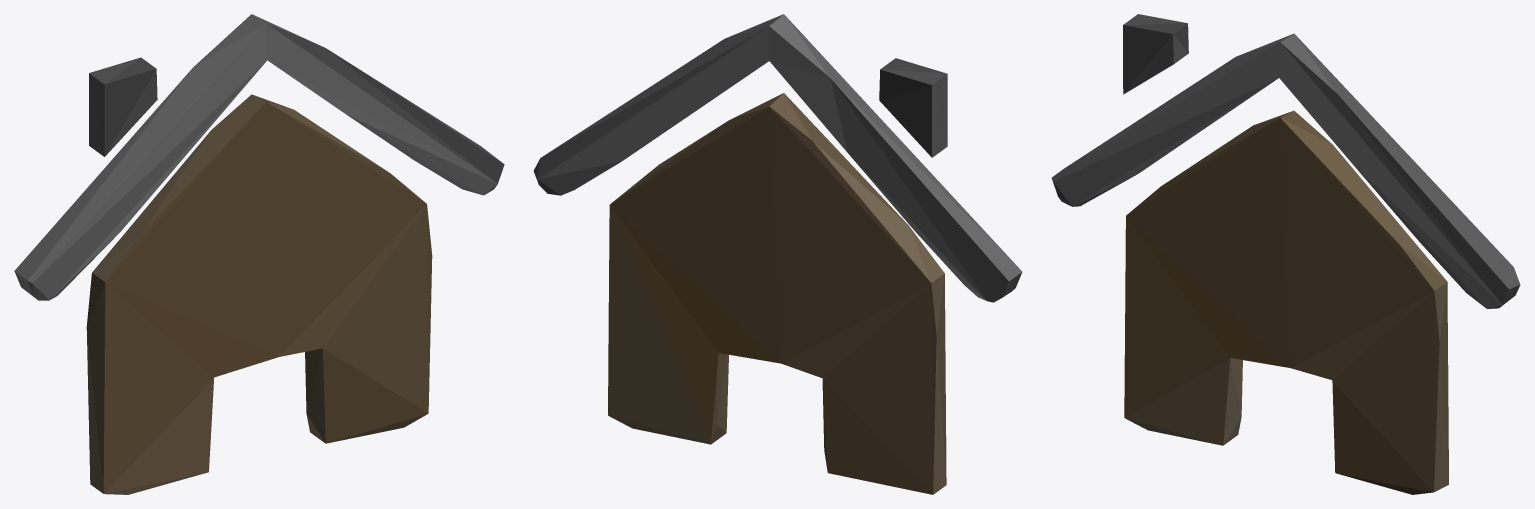
The model's file is Symbol-Mayor.fbx.
The picture shows the model from 3 angles, left to right: view 1: azimuth 30°, elevation 25°; view 2: azimuth 150°, elevation 25°; view 3: azimuth 330°, elevation 25°; orthographic projection. The views are drawn at different scales.
Parts seen in each view (by area): view 1: Symbol-Mayor; view 2: Symbol-Mayor; view 3: Symbol-Mayor.
Part boxes in pixels (box(x1,y1,x2,y2)): Symbol-Mayor: box(14, 14, 504, 494); Symbol-Mayor: box(533, 14, 1022, 494); Symbol-Mayor: box(1051, 14, 1520, 494).
Size of the model in its own units: 107 by 94.35 by 6.15.
